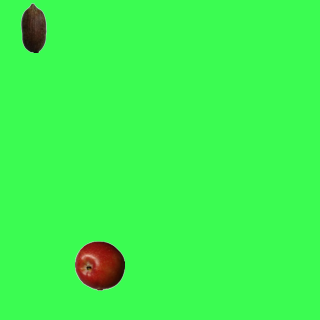Apple Braeburn: (74, 240, 124, 290)
Nut Pecan: (8, 2, 58, 52)
